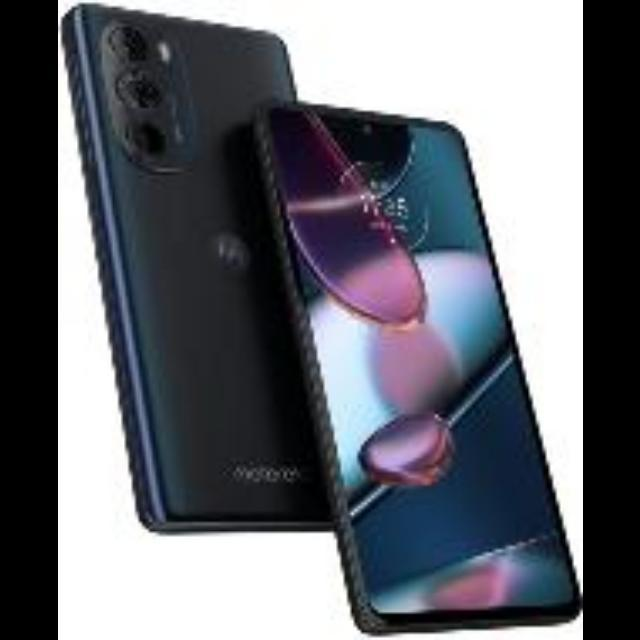phone: (247, 86, 583, 640)
